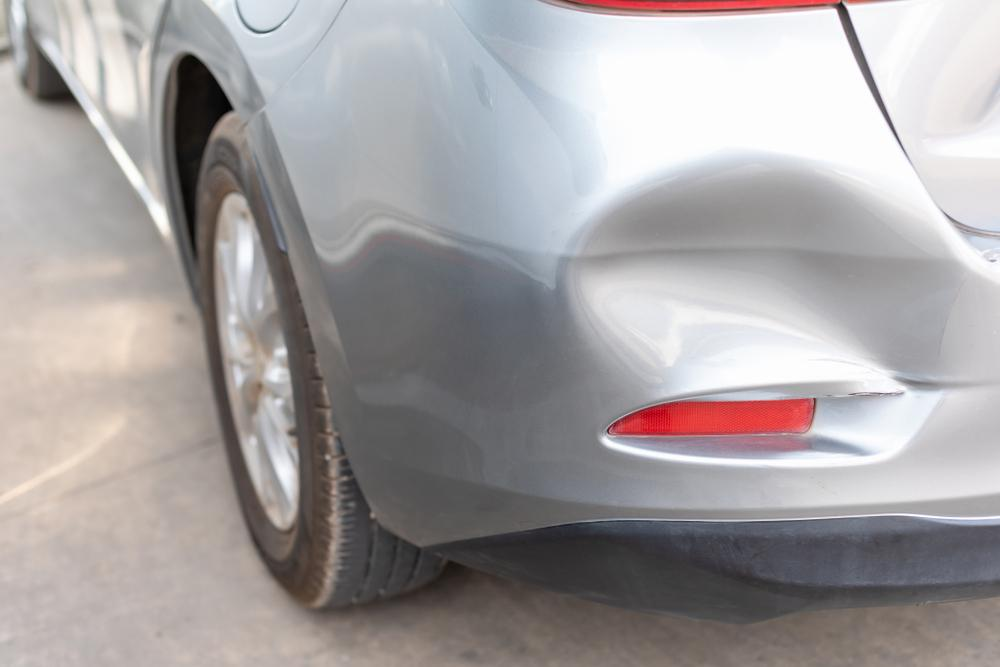dent: (574, 164, 960, 386)
